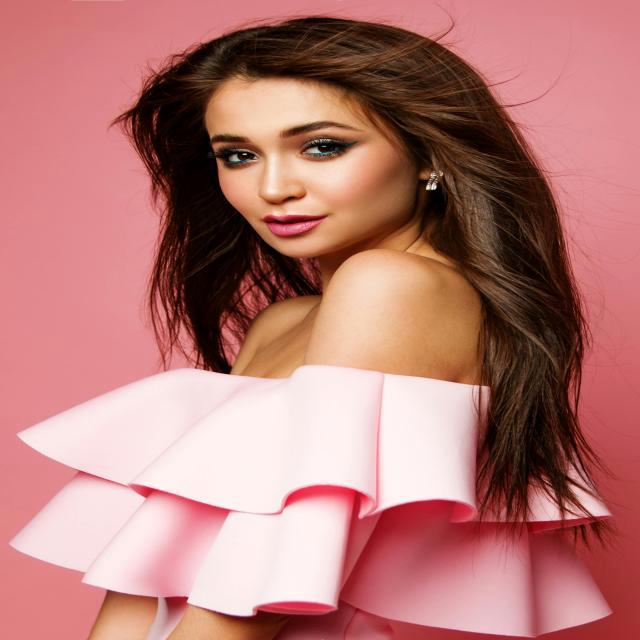no_head_wear: (116, 17, 595, 523)
person: (13, 17, 616, 640)
